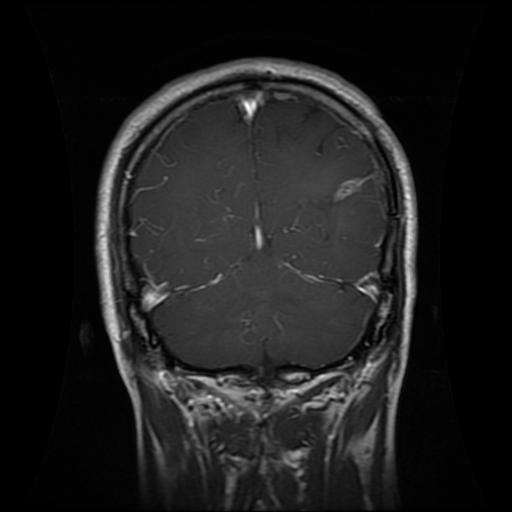Gliomia_tumour: (296, 175, 365, 246)
